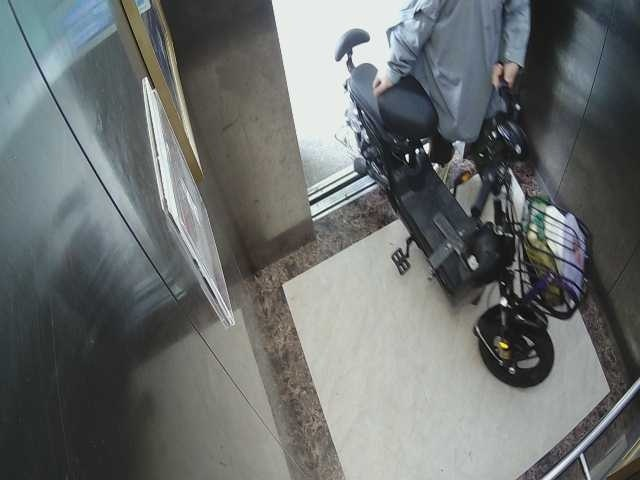emotor: (329, 39, 574, 397)
